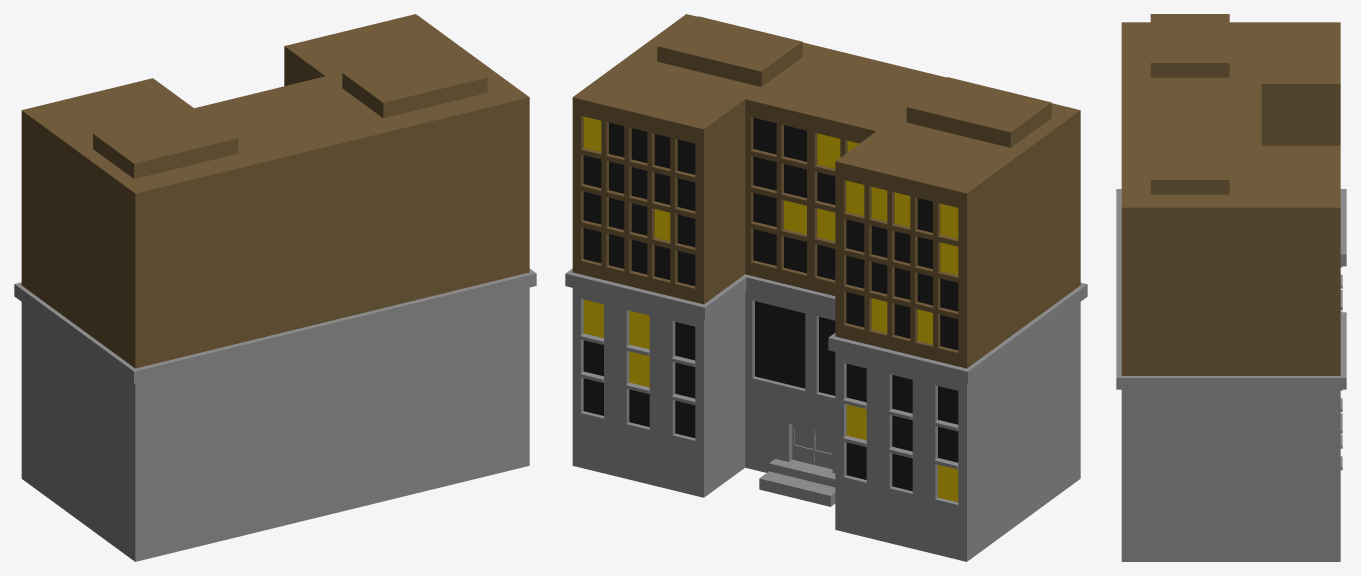
The model's file is Building_B.FBX.
3 views of the same model, side by side, from view 1: azimuth 30°, elevation 25°; view 2: azimuth 150°, elevation 25°; view 3: azimuth 270°, elevation 25° (orthographic). The views are drawn at different scales.
Visible parts, largest first — view 1: BuildingB; view 2: BuildingB; view 3: BuildingB.
Boxes of the visible parts, <box> form: BuildingB: <box>14,14,536,561</box>; BuildingB: <box>565,14,1087,561</box>; BuildingB: <box>1116,14,1346,561</box>.
Size of the model in its own units: 255 by 234 by 131.
